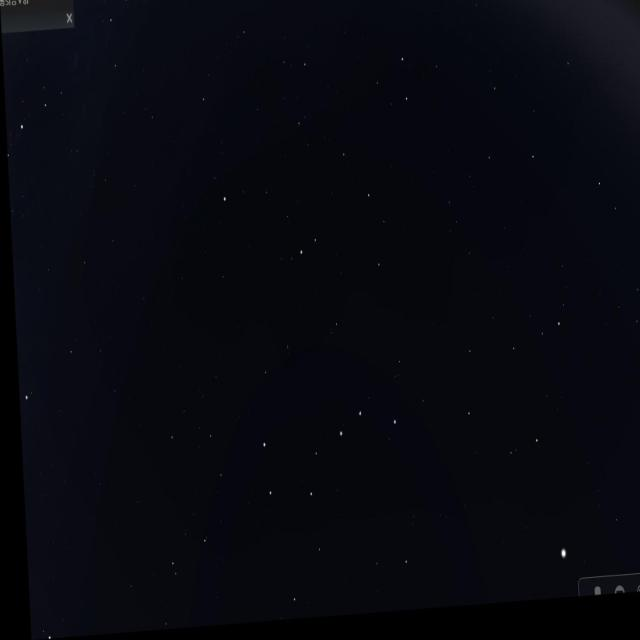ursa_major: (246, 398, 403, 520)
